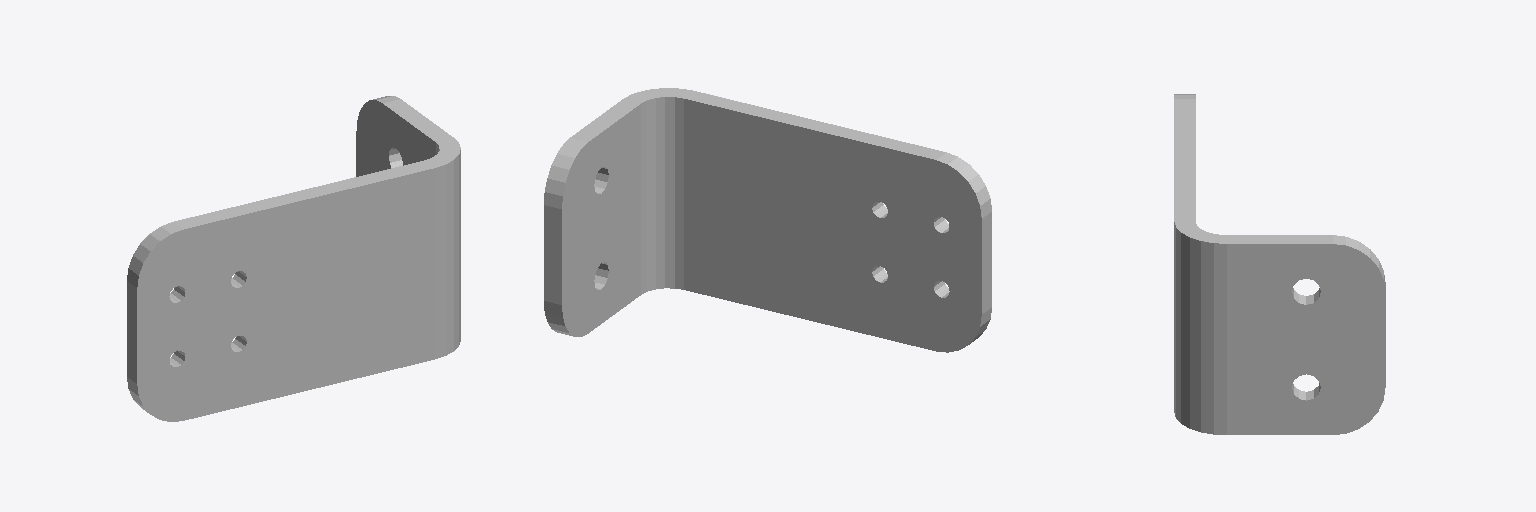
File: lb-thruster-mount_visual_lb-thruster-mount.obj
3 renders of one model, left to right at view 1: azimuth 30°, elevation 25°; view 2: azimuth 150°, elevation 25°; view 3: azimuth 270°, elevation 25°, orthographic.
Parts seen in each view (by area): view 1: lb-thruster-mount_visual_lb-thruster-mount; view 2: lb-thruster-mount_visual_lb-thruster-mount; view 3: lb-thruster-mount_visual_lb-thruster-mount.
Boxes of the visible parts, box(x1,y1,x2,y2) form: lb-thruster-mount_visual_lb-thruster-mount: box(127, 96, 460, 421); lb-thruster-mount_visual_lb-thruster-mount: box(544, 88, 991, 352); lb-thruster-mount_visual_lb-thruster-mount: box(1174, 94, 1385, 434).
Size of the model in its own units: 0.075 by 0.04 by 0.04.